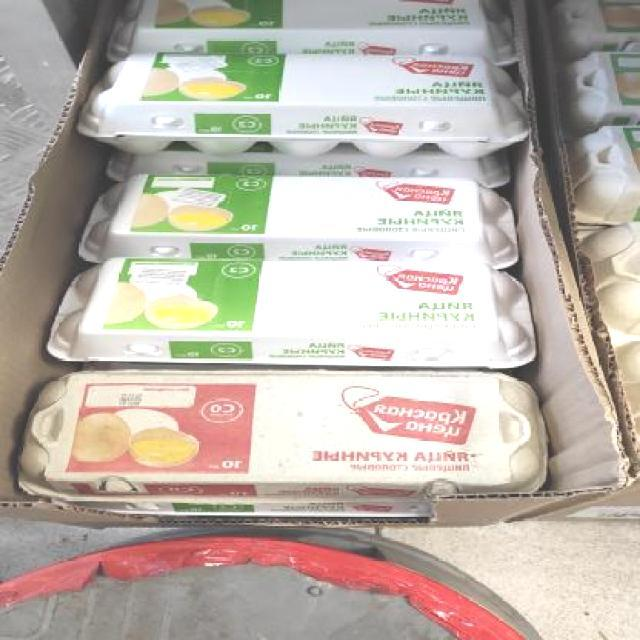egg: (21, 369, 546, 502), (44, 256, 534, 366), (72, 53, 526, 158), (76, 177, 518, 263), (108, 0, 514, 63), (557, 125, 640, 224), (583, 220, 640, 337), (557, 52, 640, 131), (555, 0, 640, 57)
